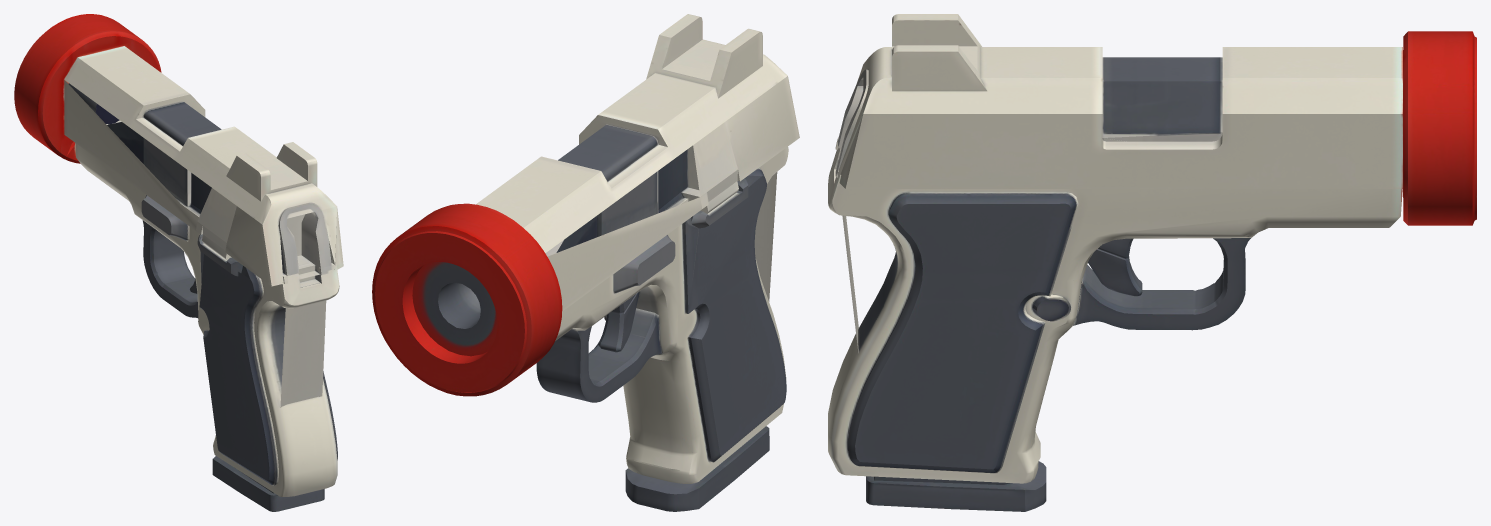
Rendered from pistolet.glb.
The picture shows the model from 3 angles, left to right: view 1: azimuth 30°, elevation 25°; view 2: azimuth 150°, elevation 25°; view 3: azimuth 270°, elevation 25°; orthographic projection. The views are drawn at different scales.
Parts seen in each view (by area): view 1: wpn_pistolet; view 2: wpn_pistolet; view 3: wpn_pistolet.
Part boxes in pixels (<box>): wpn_pistolet: <box>14,14,343,511</box>; wpn_pistolet: <box>372,14,799,511</box>; wpn_pistolet: <box>828,14,1476,511</box>.
Size of the model in its own units: 0.1002 by 0.2601 by 0.3325.
1 material, 1 textured.
